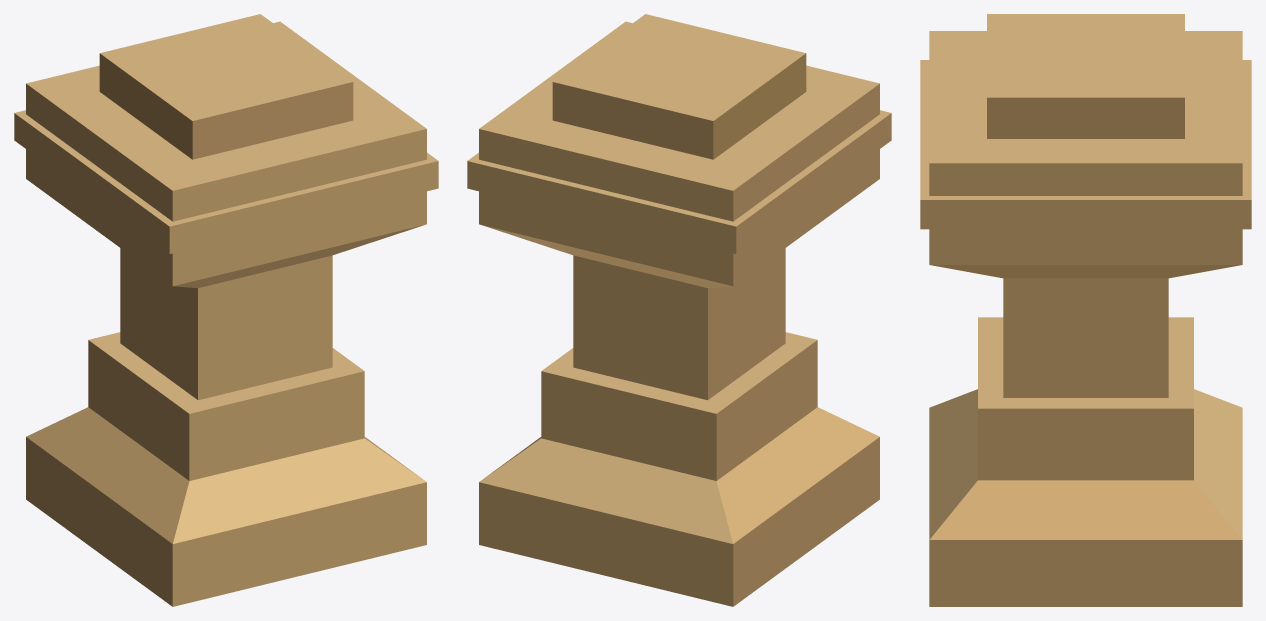
The model's file is ST_Prop_Plinth_01.fbx.
3 views of the same model, side by side, from view 1: azimuth 30°, elevation 25°; view 2: azimuth 150°, elevation 25°; view 3: azimuth 270°, elevation 25° (orthographic). The views are drawn at different scales.
Visible parts, largest first — view 1: ST_Prop_Plinth_01; view 2: ST_Prop_Plinth_01; view 3: ST_Prop_Plinth_01.
Boxes of the visible parts, x1,y1,x2,y2 form: ST_Prop_Plinth_01: (14, 14, 438, 606); ST_Prop_Plinth_01: (467, 14, 891, 606); ST_Prop_Plinth_01: (920, 14, 1251, 606).
Bounding box in the file's own units: 0.9092 × 1.47 × 0.9092.
